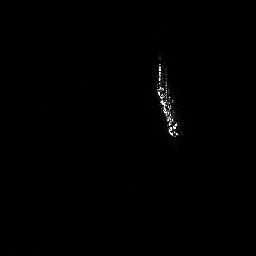ship: (154, 53, 183, 139)
